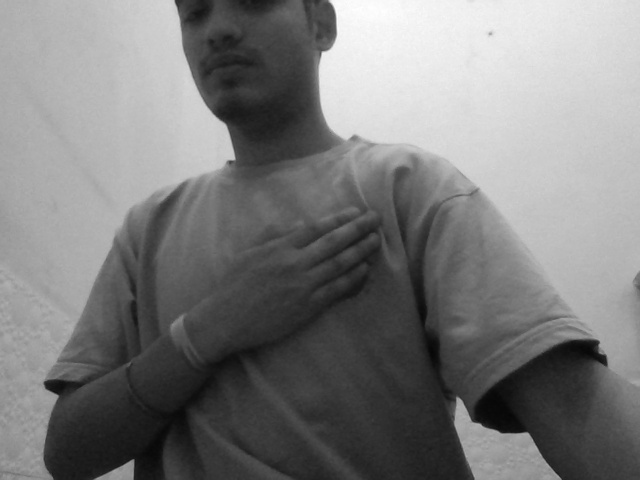Sorry: (167, 195, 444, 382)
